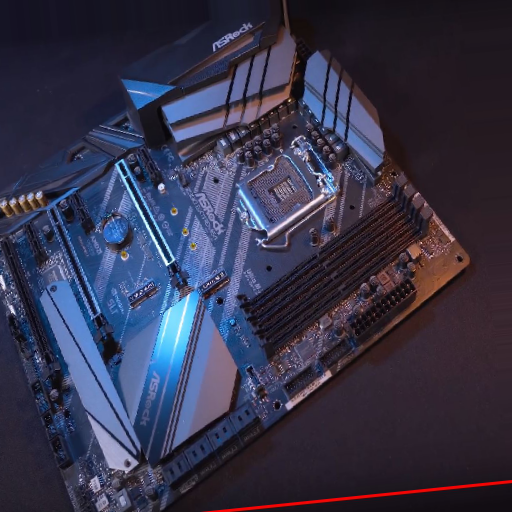CPU: (235, 143, 340, 242)
GPU: (46, 205, 118, 344), (115, 158, 190, 291)
MOTHERBOARD: (3, 6, 474, 511)
RAM: (245, 176, 432, 357)
SSD: (127, 282, 159, 310), (196, 269, 229, 295)
